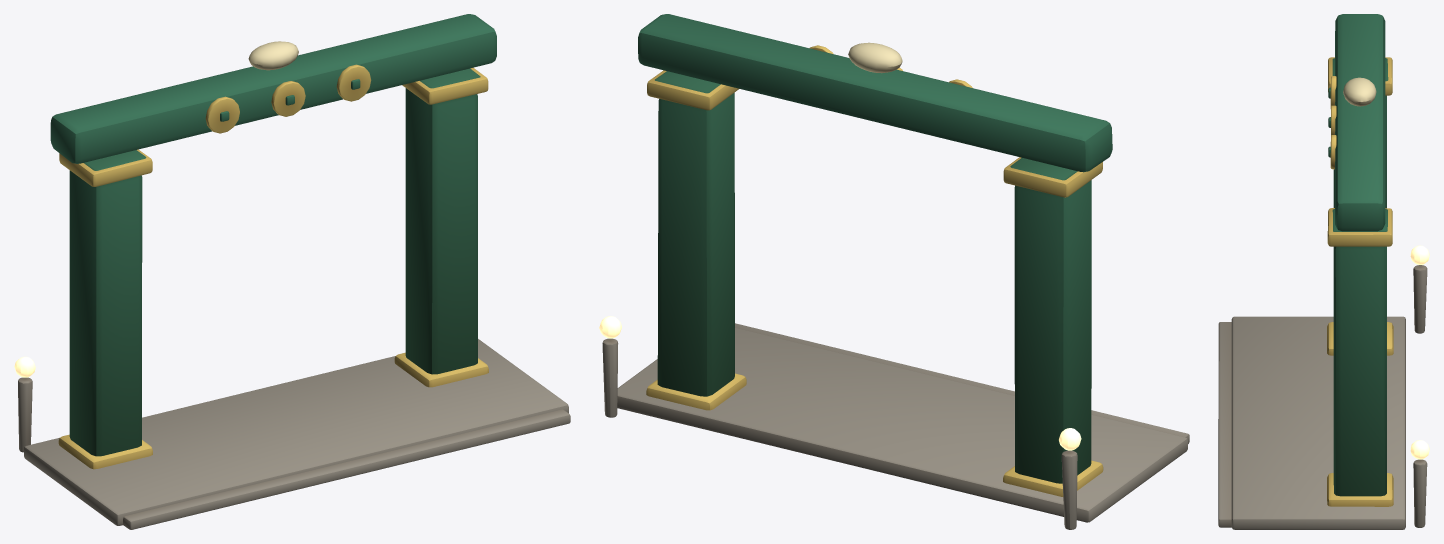
The picture shows the model from 3 angles, left to right: view 1: azimuth 30°, elevation 25°; view 2: azimuth 150°, elevation 25°; view 3: azimuth 270°, elevation 25°; orthographic projection. The views are drawn at different scales.
Visible parts, largest first — view 1: gate_301bd96a; view 2: gate_301bd96a; view 3: gate_301bd96a.
Boxes of the visible parts, x1,y1,x2,y2 form: gate_301bd96a: (14,14,570,529); gate_301bd96a: (599,14,1189,529); gate_301bd96a: (1218,14,1429,529).
Bounding box in the file's own units: 5.8 × 4.62 × 2.54.
